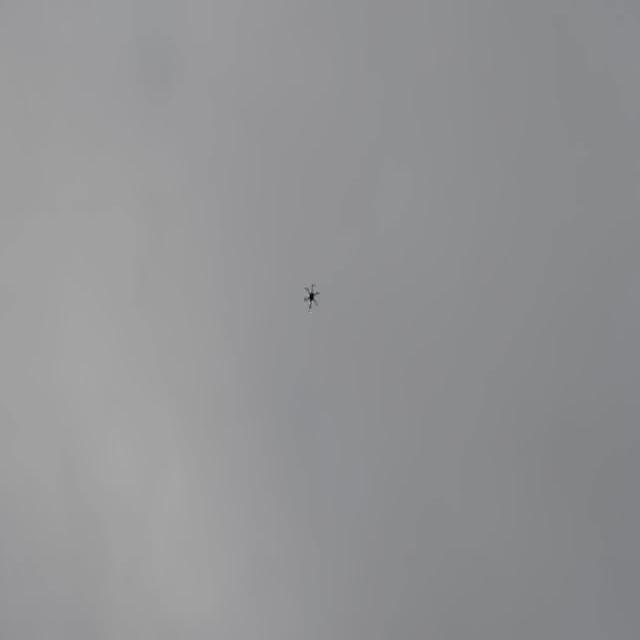drone: (302, 278, 320, 310)
